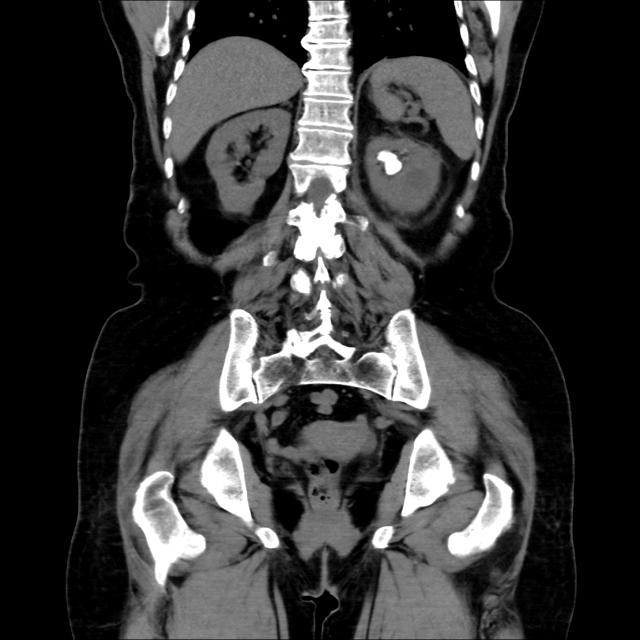kidneystone: (377, 150, 403, 175)
